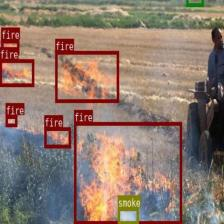fire: (74, 122, 182, 224), (55, 50, 119, 102), (0, 58, 33, 86), (44, 127, 70, 148), (0, 40, 19, 54), (5, 115, 17, 126)
smoke: (118, 206, 138, 224)
